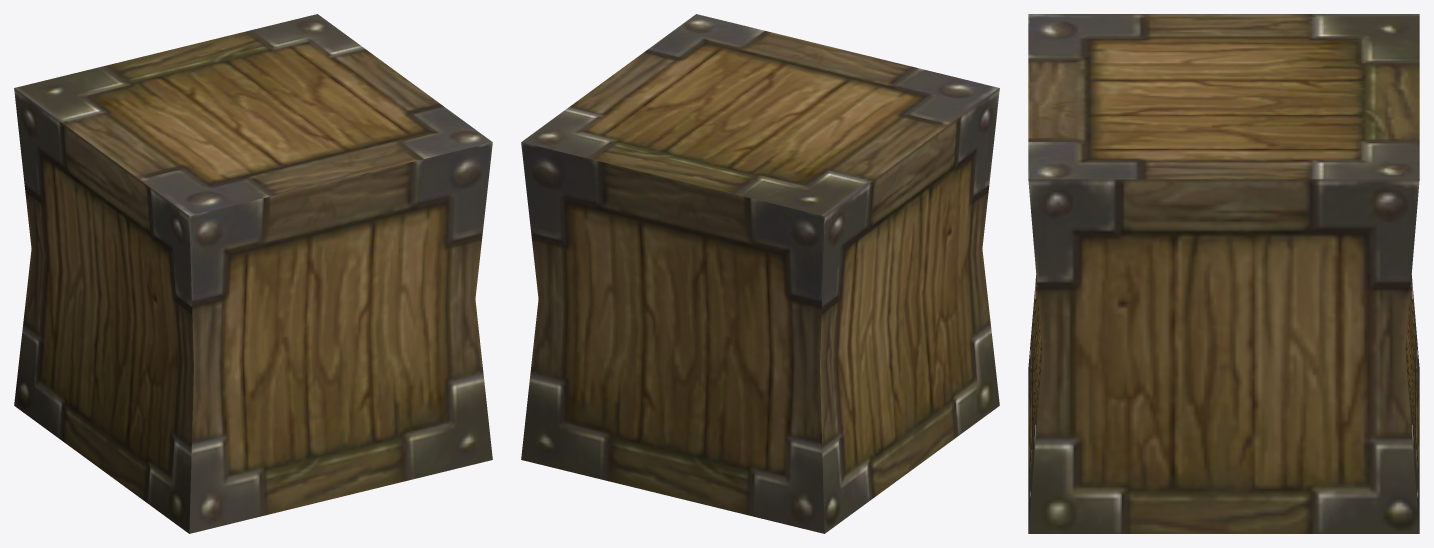
File: DN_WoodBox01.FBX
3 views of the same model, side by side, from view 1: azimuth 30°, elevation 25°; view 2: azimuth 150°, elevation 25°; view 3: azimuth 270°, elevation 25° (orthographic). The views are drawn at different scales.
Visible parts, largest first — view 1: DN_WoodBox01; view 2: DN_WoodBox01; view 3: DN_WoodBox01.
Boxes of the visible parts, x1,y1,x2,y2 form: DN_WoodBox01: (14, 14, 492, 533); DN_WoodBox01: (521, 14, 999, 533); DN_WoodBox01: (1028, 14, 1419, 533).
Bounding box in the file's own units: 26.82 × 26.82 × 26.82.
Materials: 1 (1 with a texture image).
